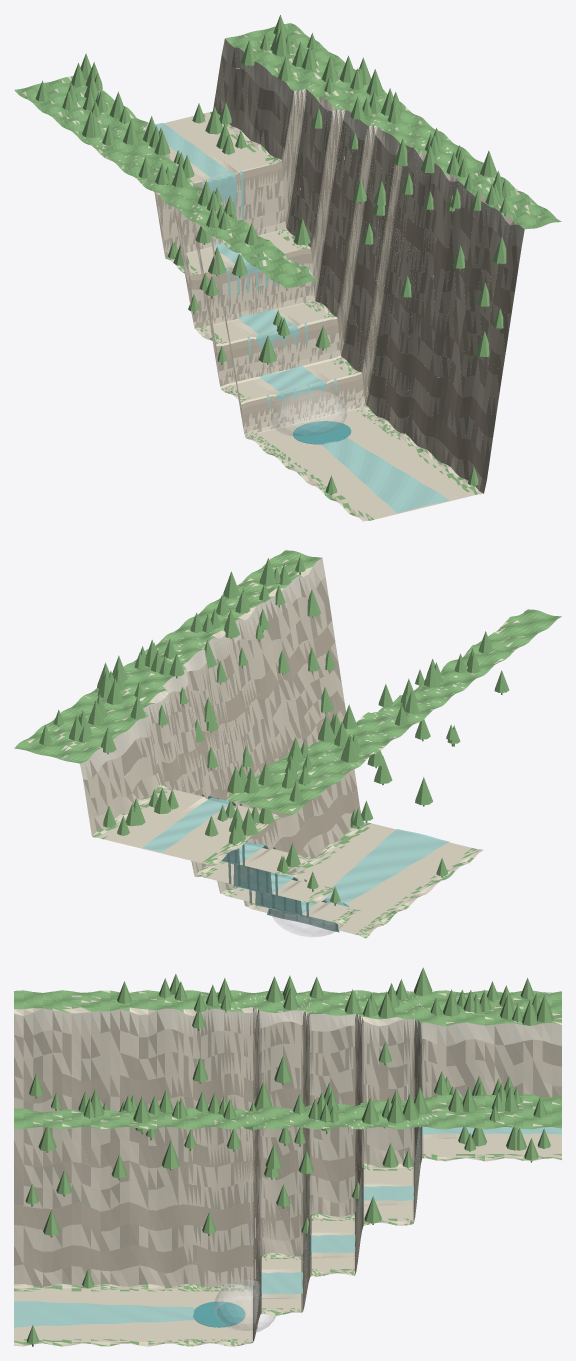
Rendered from kinchkha.glb.
The picture shows the model from 3 angles, top to bottom: view 1: azimuth 30°, elevation 25°; view 2: azimuth 150°, elevation 25°; view 3: azimuth 270°, elevation 25°; orthographic projection.
Parts seen in each view (by area): view 1: kinchkha_rock, kinchkha_veg, kinchkha_rockDark, kinchkha_soft, kinchkha_water, kinchkha_cap, kinchkha_mist, kinchkha_waterPool; view 2: kinchkha_rock, kinchkha_veg, kinchkha_rockDark, kinchkha_water, kinchkha_soft, kinchkha_cap, kinchkha_mist; view 3: kinchkha_rock, kinchkha_veg, kinchkha_rockDark, kinchkha_soft, kinchkha_cap, kinchkha_water, kinchkha_mist, kinchkha_waterPool.
Boxes of the visible parts, box(x1,y1,x2,y2) form: kinchkha_rock: box(22, 30, 541, 521); kinchkha_veg: box(14, 15, 561, 520); kinchkha_rockDark: box(158, 48, 517, 493); kinchkha_soft: box(155, 150, 511, 479); kinchkha_water: box(155, 123, 449, 513); kinchkha_cap: box(143, 39, 524, 248); kinchkha_mist: box(271, 390, 346, 435); kinchkha_waterPool: box(293, 421, 351, 444); kinchkha_rock: box(27, 559, 526, 938); kinchkha_veg: box(14, 550, 561, 938); kinchkha_rockDark: box(83, 576, 361, 905); kinchkha_water: box(142, 794, 449, 932); kinchkha_soft: box(158, 626, 359, 869); kinchkha_cap: box(80, 558, 325, 779); kinchkha_mist: box(270, 893, 343, 936); kinchkha_rock: box(14, 990, 561, 1346); kinchkha_veg: box(14, 967, 561, 1346); kinchkha_rockDark: box(14, 1010, 561, 1341); kinchkha_soft: box(14, 1074, 422, 1328); kinchkha_cap: box(14, 1008, 561, 1110); kinchkha_water: box(14, 1126, 561, 1329); kinchkha_mist: box(214, 1280, 275, 1332); kinchkha_waterPool: box(193, 1301, 245, 1327).
Size of the model in its own units: 20.87 by 21.16 by 35.4.
